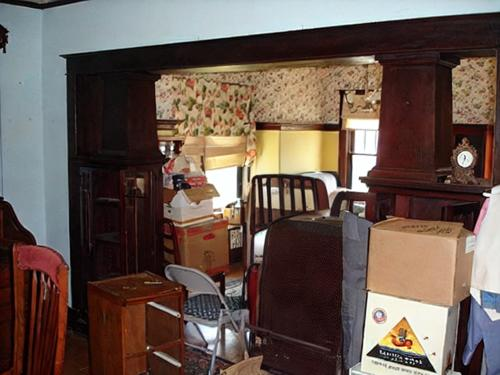chair: (165, 264, 253, 372), (5, 244, 67, 374), (241, 194, 295, 299), (277, 186, 312, 220)
truck: (241, 172, 345, 375)
